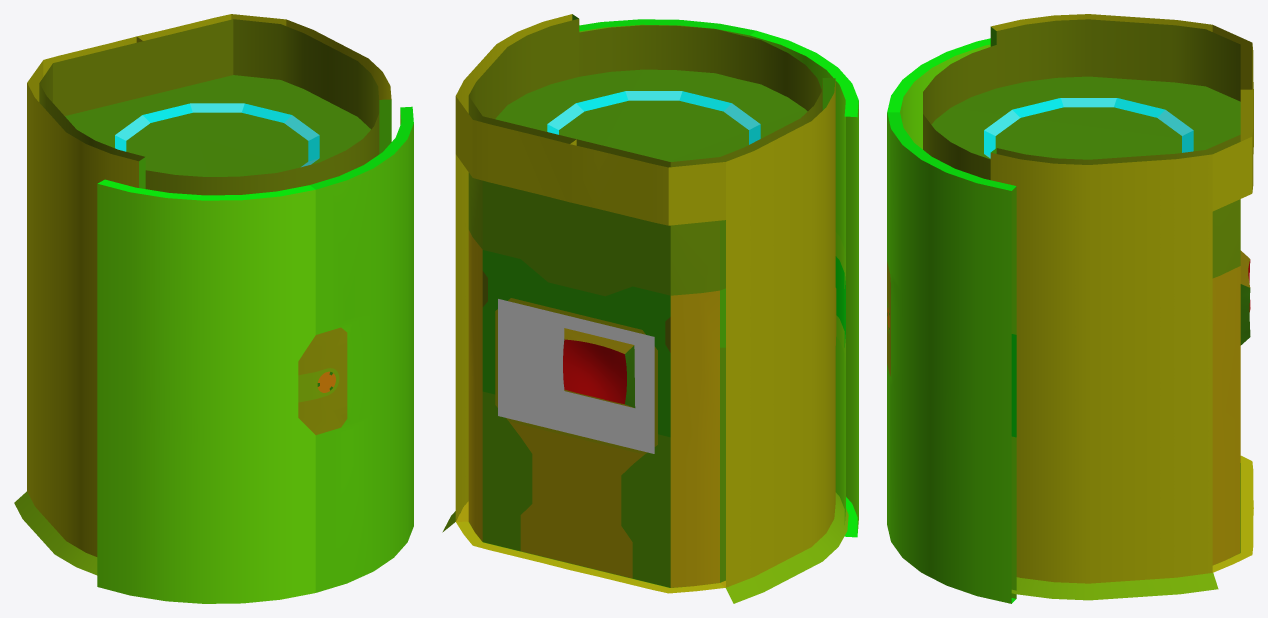
The model's file is elevator.gltf.
3 views of the same model, side by side, from view 1: azimuth 30°, elevation 25°; view 2: azimuth 150°, elevation 25°; view 3: azimuth 270°, elevation 25° (orthographic). The views are drawn at different scales.
Parts seen in each view (by area): view 1: elevator_door_slider_left, elevator_cabin, elevator_door_slider_right, elevator_cabin_emissive; view 2: elevator_cabin, elevator_button, elevator_door_slider_left, elevator_screen, elevator_cabin_emissive, elevator_door_slider_right; view 3: elevator_cabin, elevator_door_slider_right, elevator_cabin_emissive, elevator_door_slider_left.
Boxes of the visible parts, bbox=[...] form: elevator_door_slider_left: bbox=[97, 179, 315, 603]; elevator_cabin: bbox=[14, 14, 391, 575]; elevator_door_slider_right: bbox=[298, 106, 413, 592]; elevator_cabin_emissive: bbox=[115, 103, 319, 167]; elevator_cabin: bbox=[442, 14, 848, 603]; elevator_button: bbox=[498, 299, 654, 453]; elevator_door_slider_left: bbox=[750, 30, 858, 537]; elevator_screen: bbox=[563, 339, 626, 403]; elevator_cabin_emissive: bbox=[547, 91, 760, 144]; elevator_door_slider_right: bbox=[579, 19, 755, 37]; elevator_cabin: bbox=[923, 14, 1253, 600]; elevator_door_slider_right: bbox=[887, 112, 1016, 603]; elevator_cabin_emissive: bbox=[984, 98, 1193, 158]; elevator_door_slider_left: bbox=[887, 38, 990, 149].
Size of the model in its own units: 2.31 by 2.89 by 2.21.
